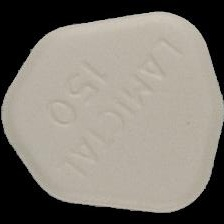21695-224: (0, 0, 224, 224)
